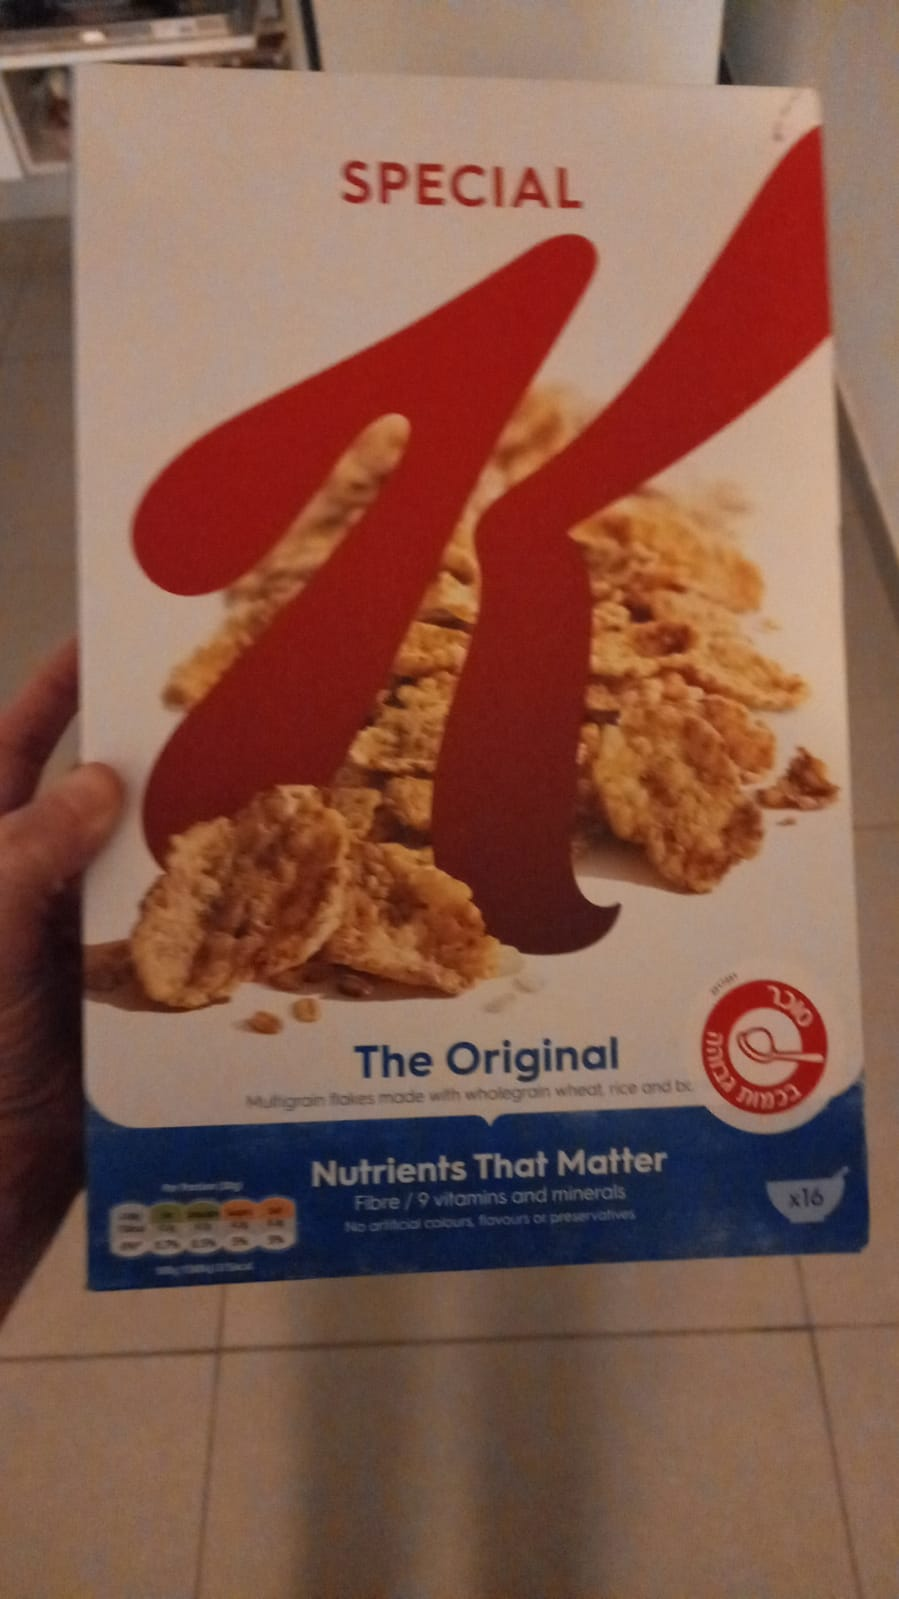sugar: (695, 975, 833, 1119)
